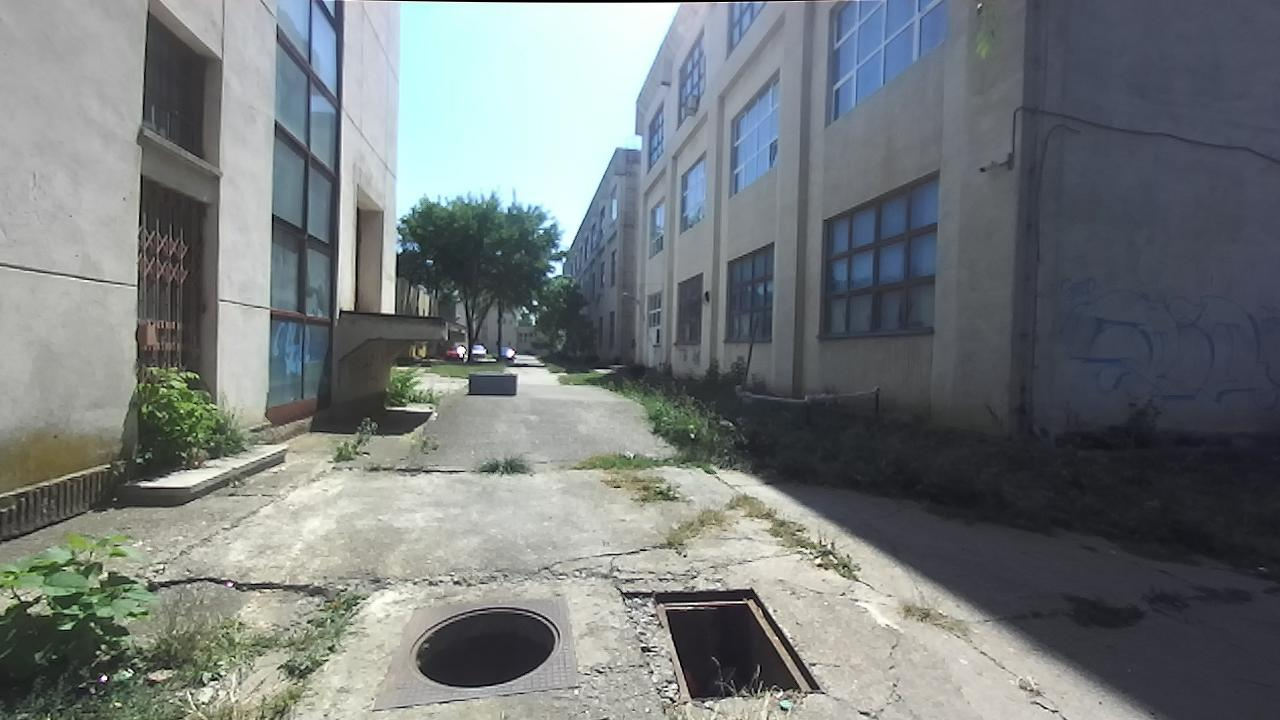drain: (649, 581, 830, 703), (404, 604, 568, 689)
